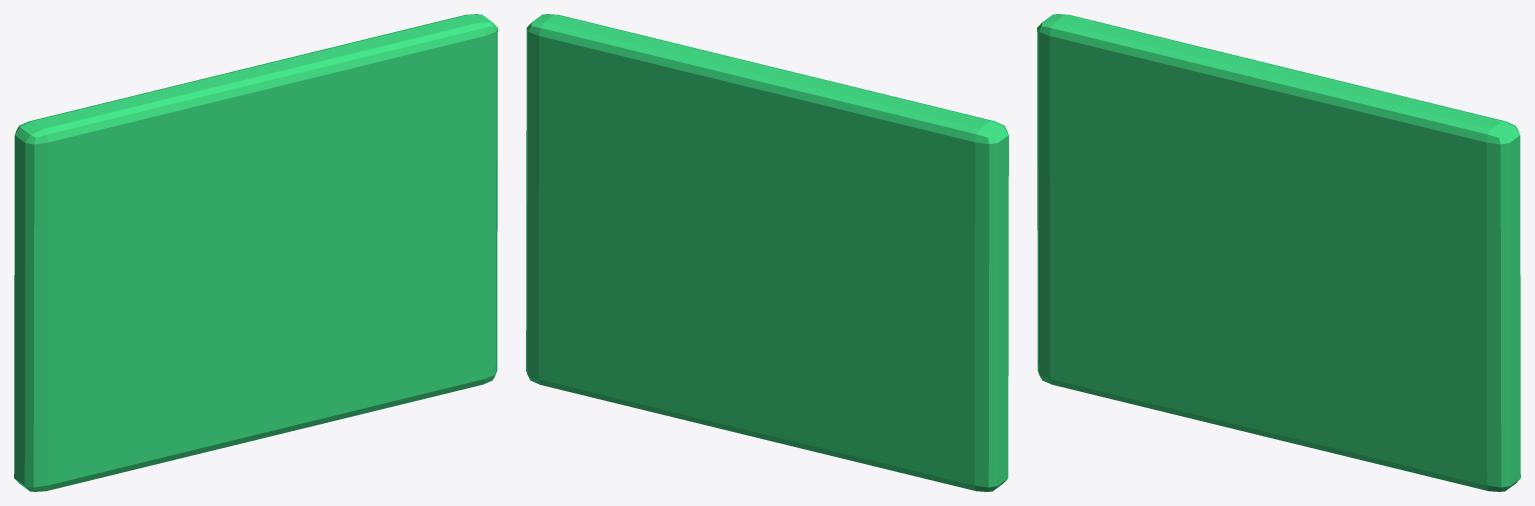
Rendered from platform07.fbx.
The picture shows the model from 3 angles, left to right: view 1: azimuth 30°, elevation 25°; view 2: azimuth 150°, elevation 25°; view 3: azimuth 330°, elevation 25°; orthographic projection.
Parts seen in each view (by area): view 1: platform07; view 2: platform07; view 3: platform07.
Boxes of the visible parts, bbox=[...] form: platform07: bbox=[14, 14, 497, 491]; platform07: bbox=[526, 14, 1008, 491]; platform07: bbox=[1037, 14, 1520, 491].
Size of the model in its own units: 131 by 95.79 by 10.43.
